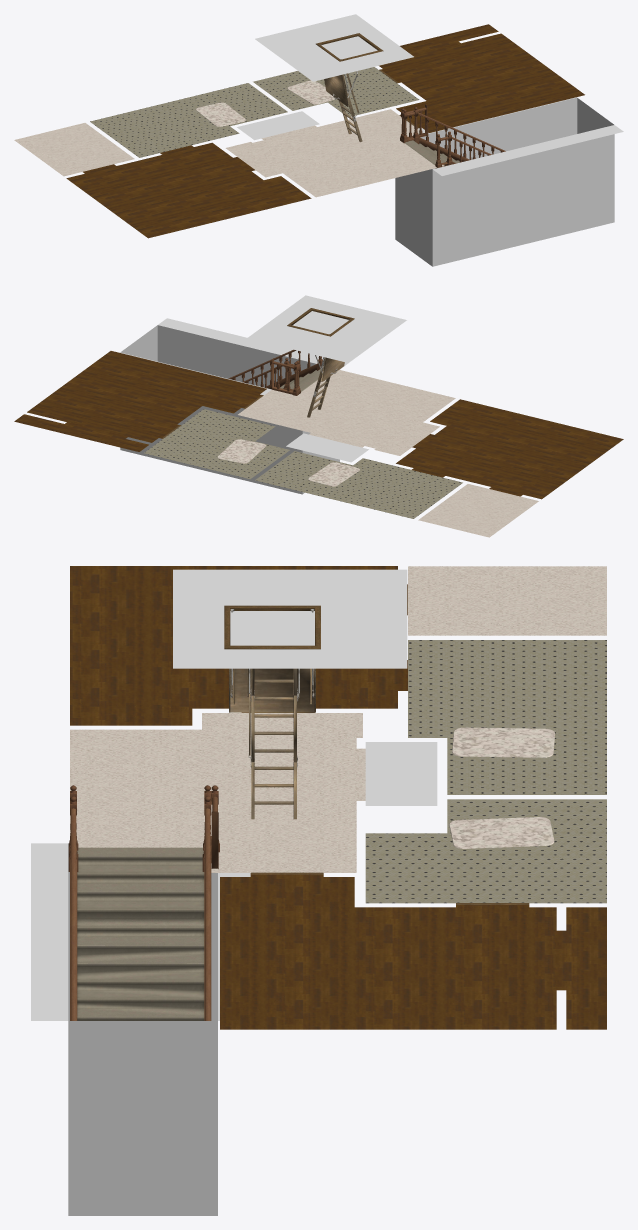
File: 02_segundo_piso_floor.fbx
The picture shows the model from 3 angles, top to bottom: view 1: azimuth 30°, elevation 25°; view 2: azimuth 150°, elevation 25°; view 3: azimuth 270°, elevation 25°; orthographic projection. The views are drawn at different scales.
Parts seen in each view (by area): view 1: Closing 2, 40_Hom-Harwood-Floor_0.1_0_0, 40_Hom-Carpet_0.1_0_0, 40_Hom-Bath-Floor-Vintage-Tile_0.1_0_0, Closing 1, 40_Hom-Staircase_0.1_0_1.001, 40_Hom-Kitchen-Tiles-01_0.1_0_0, 40_Hom-Attic-Ladder_0.1_0_0.001, 6_Hom-Kitchen-Cabinets-Wood_0.1_0_0; view 2: 40_Hom-Harwood-Floor_0.1_0_0, 40_Hom-Carpet_0.1_0_0, 40_Hom-Bath-Floor-Vintage-Tile_0.1_0_0, Closing 2, Closing 1, 40_Hom-Staircase_0.1_0_1.001, 40_Hom-Kitchen-Tiles-01_0.1_0_0, 40_Hom-Attic-Ladder_0.1_0_0.001, 6_Hom-Kitchen-Cabinets-Wood_0.1_0_0; view 3: 40_Hom-Harwood-Floor_0.1_0_0, 40_Hom-Carpet_0.1_0_0, 40_Hom-Bath-Floor-Vintage-Tile_0.1_0_0, Closing 2, 40_Hom-Staircase_0.1_0_1.001, Closing 1, 40_Hom-Attic-Ladder_0.1_0_0.001, 40_Hom-Kitchen-Tiles-01_0.1_0_0, 6_Hom-Kitchen-Cabinets-Wood_0.1_0_0.
Part boxes in pixels (x1,y1,x2,y2): Closing 2: (395,97,623,266); 40_Hom-Harwood-Floor_0.1_0_0: (66,24,584,238); 40_Hom-Carpet_0.1_0_0: (14,80,444,197); 40_Hom-Bath-Floor-Vintage-Tile_0.1_0_0: (90,67,419,157); Closing 1: (255,14,413,81); 40_Hom-Staircase_0.1_0_1.001: (400,104,505,168); 40_Hom-Kitchen-Tiles-01_0.1_0_0: (237,111,319,140); 40_Hom-Attic-Ladder_0.1_0_0.001: (320,44,362,141); 6_Hom-Kitchen-Cabinets-Wood_0.1_0_0: (316,33,418,127); 40_Hom-Harwood-Floor_0.1_0_0: (14,351,623,499); 40_Hom-Carpet_0.1_0_0: (217,370,538,537); 40_Hom-Bath-Floor-Vintage-Tile_0.1_0_0: (144,409,462,518); Closing 2: (120,318,348,494); Closing 1: (247,295,406,362); 40_Hom-Staircase_0.1_0_1.001: (228,349,322,395); 40_Hom-Kitchen-Tiles-01_0.1_0_0: (286,433,368,462); 40_Hom-Attic-Ladder_0.1_0_0.001: (307,319,350,417); 6_Hom-Kitchen-Cabinets-Wood_0.1_0_0: (162,308,354,438); 40_Hom-Harwood-Floor_0.1_0_0: (70,566,606,1029); 40_Hom-Carpet_0.1_0_0: (70,566,606,872); 40_Hom-Bath-Floor-Vintage-Tile_0.1_0_0: (365,640,606,903); Closing 2: (31,843,250,1215); 40_Hom-Staircase_0.1_0_1.001: (68,785,219,1020); Closing 1: (173,569,407,668); 40_Hom-Attic-Ladder_0.1_0_0.001: (229,609,315,819); 40_Hom-Kitchen-Tiles-01_0.1_0_0: (365,742,437,805); 6_Hom-Kitchen-Cabinets-Wood_0.1_0_0: (224,605,529,904).
Bounding box in the file's own units: 9.36 × 4.92 × 3.58.
